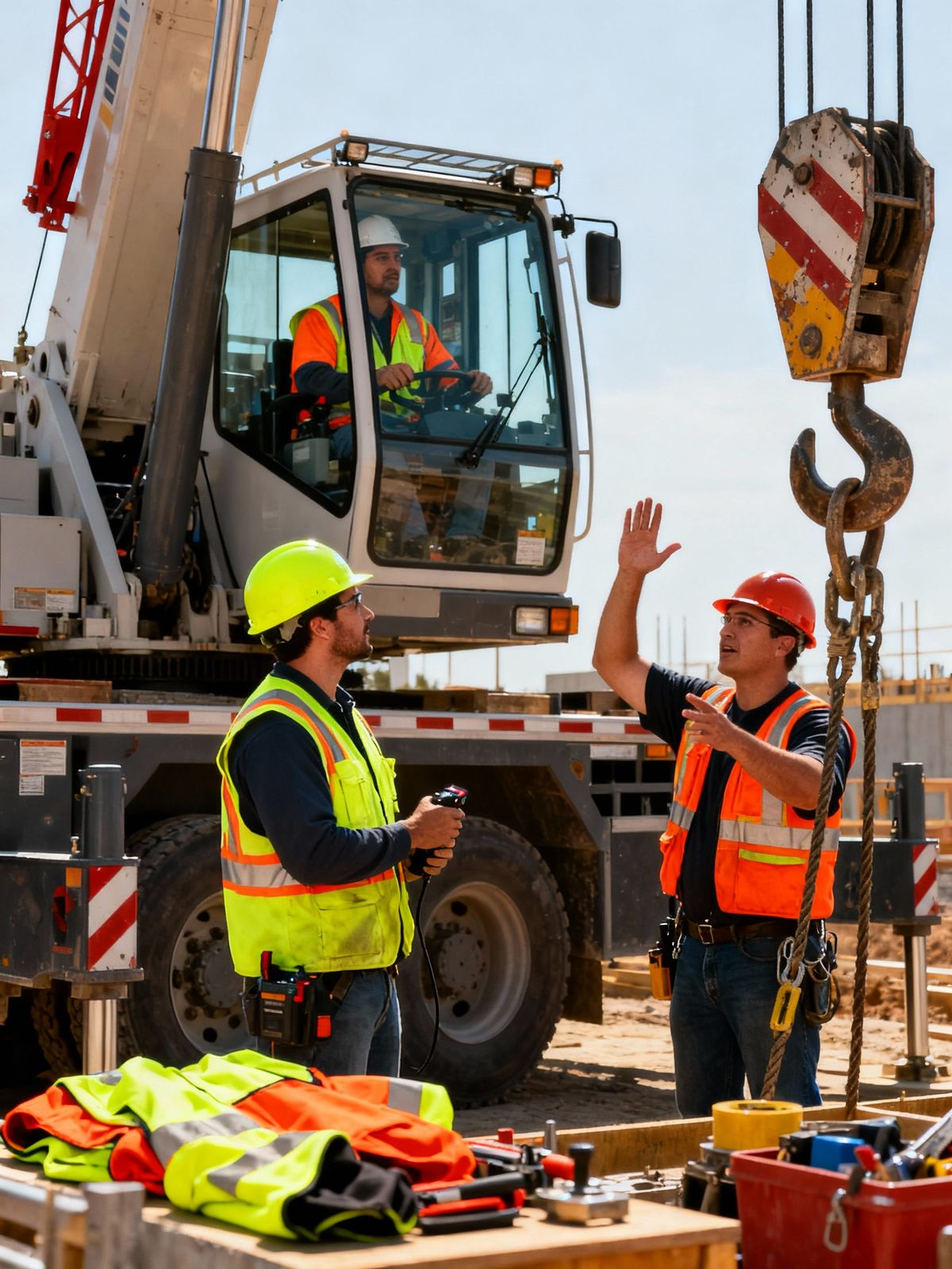hardhat: (226, 521, 350, 652), (668, 554, 834, 643), (337, 207, 418, 278)
person: (154, 507, 510, 1156), (613, 490, 894, 1143), (276, 205, 465, 479)
safety_vest: (193, 670, 445, 976), (659, 676, 852, 926), (296, 288, 454, 448)
